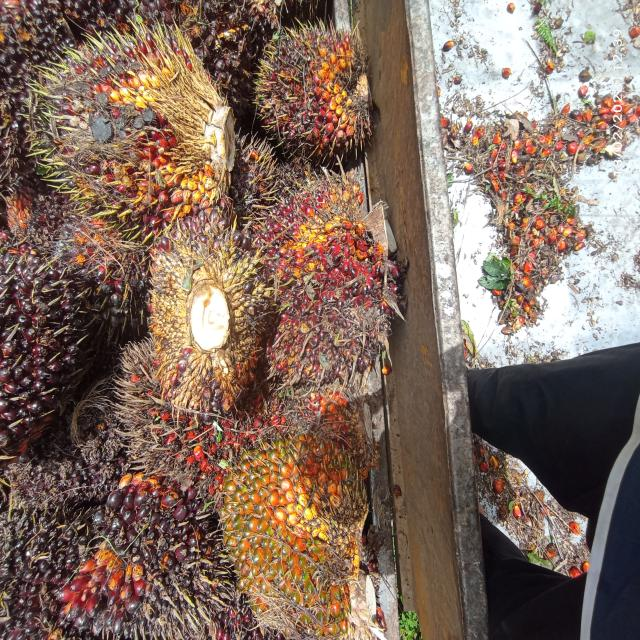fraksi 00: (0, 440, 236, 640), (0, 239, 123, 451)
fraksi 1: (22, 5, 246, 250), (241, 160, 409, 411), (253, 18, 392, 158)
fraksi 3: (208, 414, 391, 640)
fraksi 4: (119, 331, 290, 535)
